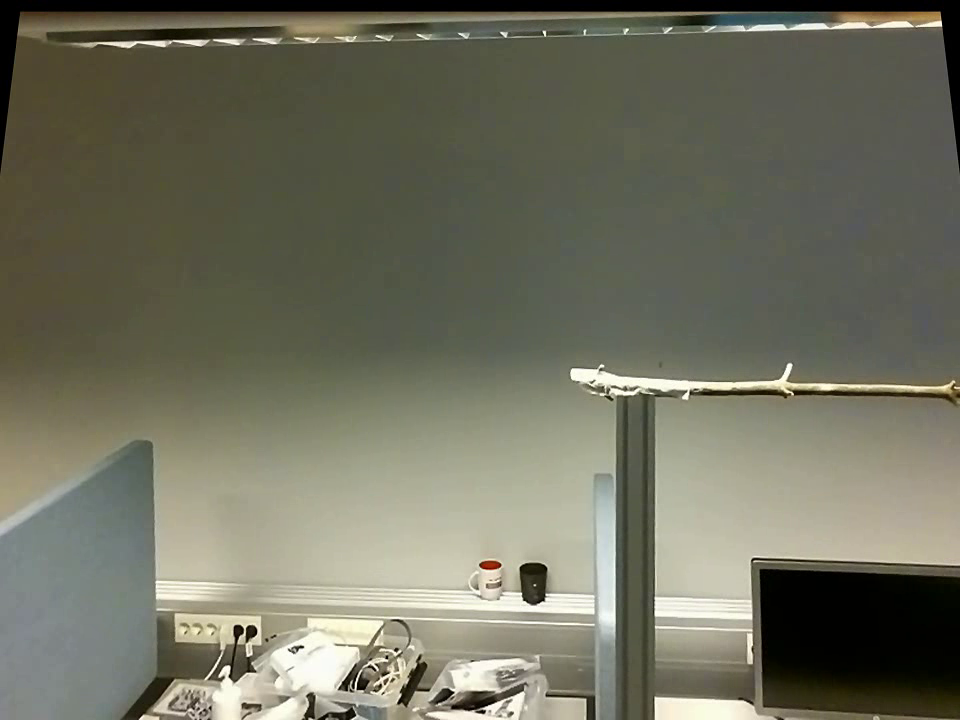aluminum_frame: (612, 400, 660, 717)
branch: (695, 351, 956, 412)
